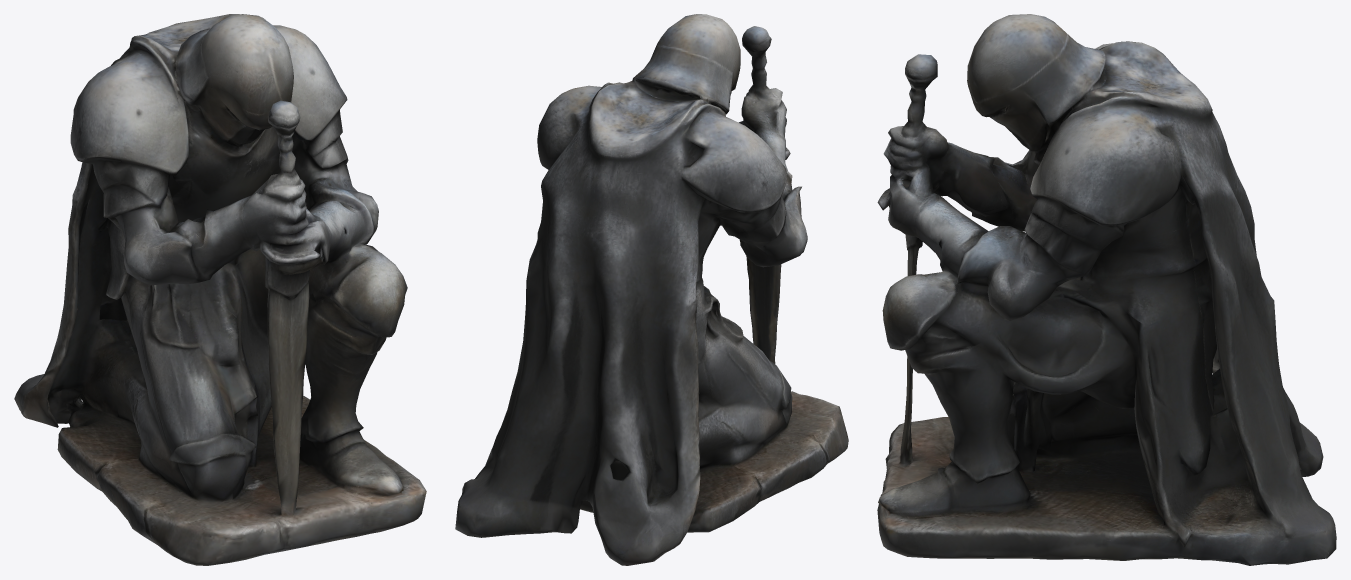
The model's file is guardian_statue.glb.
3 views of the same model, side by side, from view 1: azimuth 30°, elevation 25°; view 2: azimuth 150°, elevation 25°; view 3: azimuth 270°, elevation 25° (orthographic). The views are drawn at different scales.
Size of the model in its own units: 1.13 by 2 by 1.72.
1 material, 1 textured.
